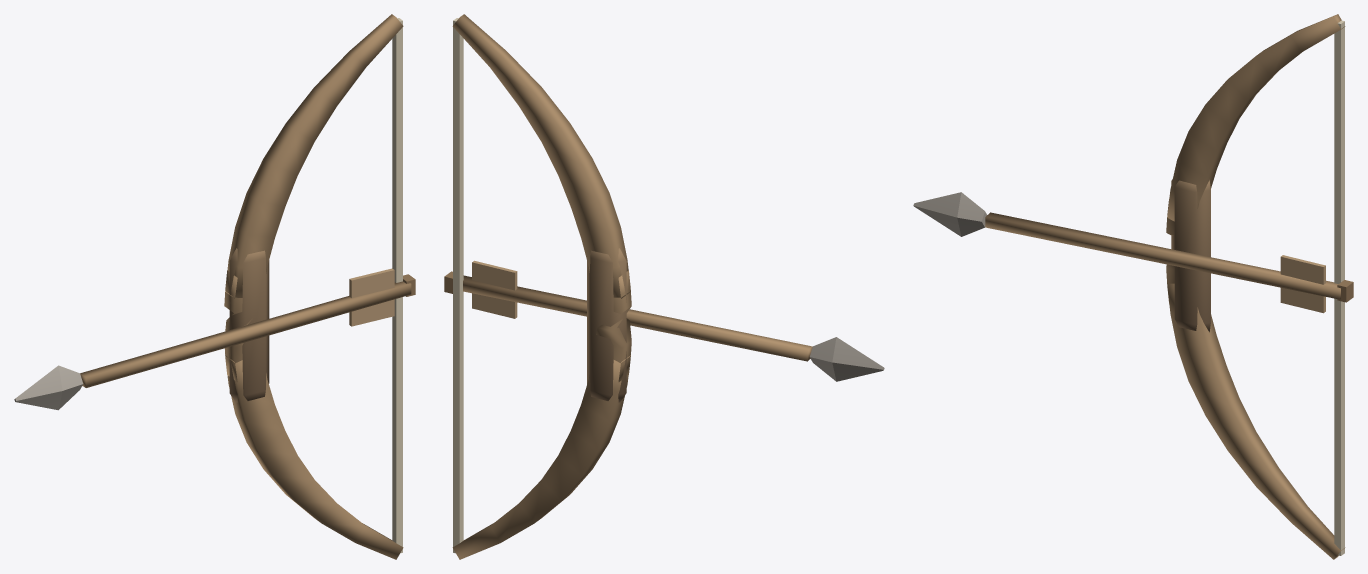
3 renders of one model, left to right at view 1: azimuth 30°, elevation 25°; view 2: azimuth 150°, elevation 25°; view 3: azimuth 330°, elevation 25°, orthographic.
Visible parts, largest first — view 1: wooden_bow; view 2: wooden_bow; view 3: wooden_bow.
Boxes of the visible parts, x1,y1,x2,y2 form: wooden_bow: (14,14,415,559); wooden_bow: (444,14,884,559); wooden_bow: (913,14,1353,559).
Size of the model in its own units: 0.737 by 0.9181 by 0.0964.
